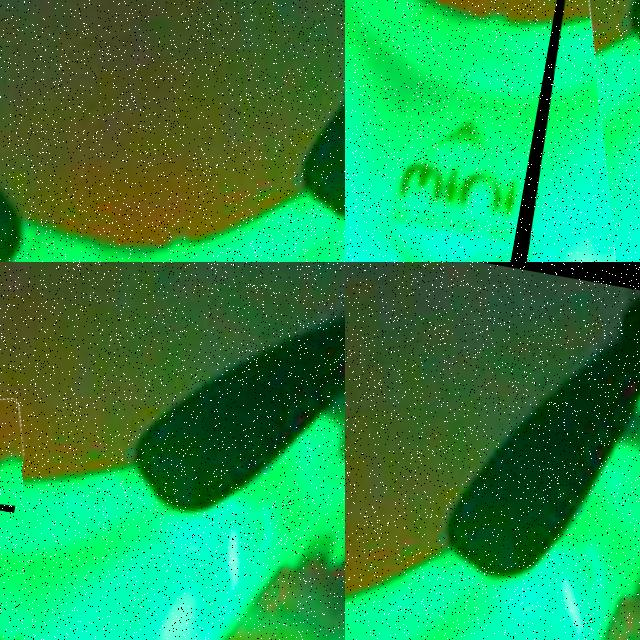drone: (345, 262, 640, 640), (0, 0, 345, 262), (502, 0, 640, 262), (0, 388, 32, 513)
